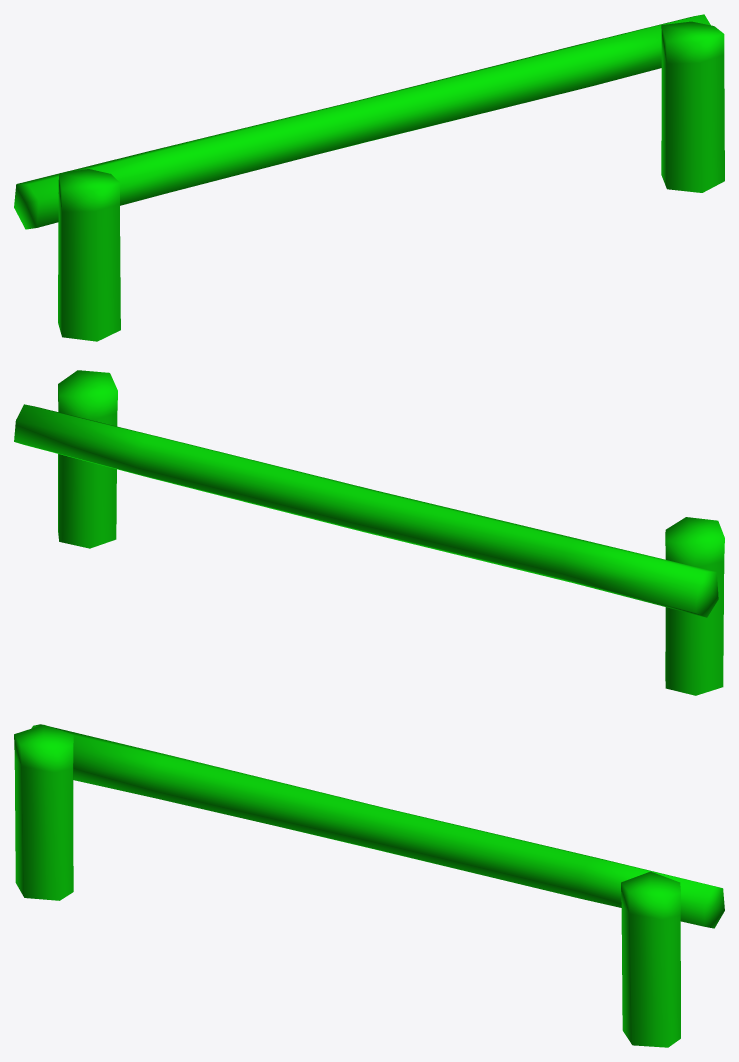
The picture shows the model from 3 angles, top to bottom: view 1: azimuth 30°, elevation 25°; view 2: azimuth 150°, elevation 25°; view 3: azimuth 330°, elevation 25°; orthographic projection.
Parts seen in each view (by area): view 1: G:\FFXIV-MapTools\exports\f1f1\bg\ffxiv\fst_f1\fld\f1f1\bgpa; view 2: G:\FFXIV-MapTools\exports\f1f1\bg\ffxiv\fst_f1\fld\f1f1\bgpa; view 3: G:\FFXIV-MapTools\exports\f1f1\bg\ffxiv\fst_f1\fld\f1f1\bgpa.
Part boxes in pixels (bbox=[...]): G:\FFXIV-MapTools\exports\f1f1\bg\ffxiv\fst_f1\fld\f1f1\bgpa: bbox=[14, 14, 724, 341]; G:\FFXIV-MapTools\exports\f1f1\bg\ffxiv\fst_f1\fld\f1f1\bgpa: bbox=[14, 370, 724, 695]; G:\FFXIV-MapTools\exports\f1f1\bg\ffxiv\fst_f1\fld\f1f1\bgpa: bbox=[14, 724, 724, 1047].
Bounding box in the file's own units: 4.92 × 1.05 × 0.6489.
